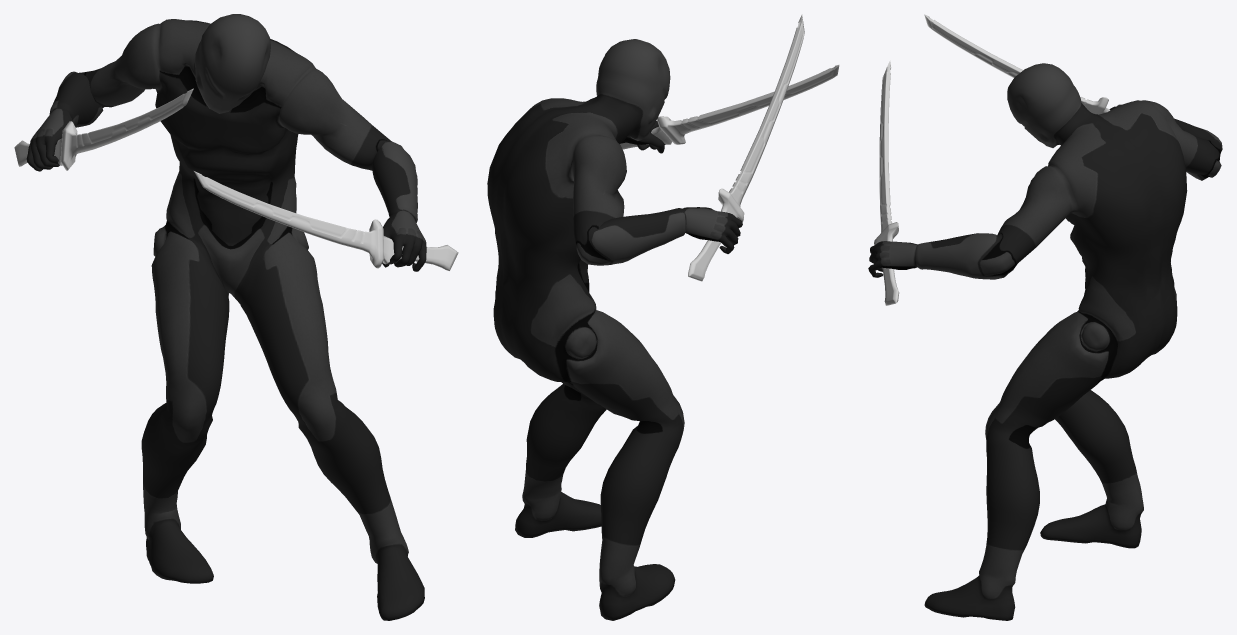
3 renders of one model, left to right at view 1: azimuth 30°, elevation 25°; view 2: azimuth 150°, elevation 25°; view 3: azimuth 270°, elevation 25°, orthographic. The views are drawn at different scales.
Visible parts, largest first — view 1: Cyborg_Ninja_Killer, Sword_l, Sword_l001; view 2: Cyborg_Ninja_Killer, Sword_l001, Sword_l; view 3: Cyborg_Ninja_Killer, Sword_l, Sword_l001.
Part boxes in pixels (left/top/right/bottom): Cyborg_Ninja_Killer: left=26, top=14, right=426, bottom=620; Sword_l: left=194, top=171, right=458, bottom=270; Sword_l001: left=14, top=88, right=193, bottom=170; Cyborg_Ninja_Killer: left=487, top=39, right=742, bottom=620; Sword_l001: left=688, top=14, right=804, bottom=281; Sword_l: left=620, top=65, right=839, bottom=149; Cyborg_Ninja_Killer: left=868, top=63, right=1222, bottom=620; Sword_l: left=874, top=60, right=899, bottom=305; Sword_l001: left=924, top=14, right=1110, bottom=114.
Size of the model in its own units: 89.49 by 164 by 104.
